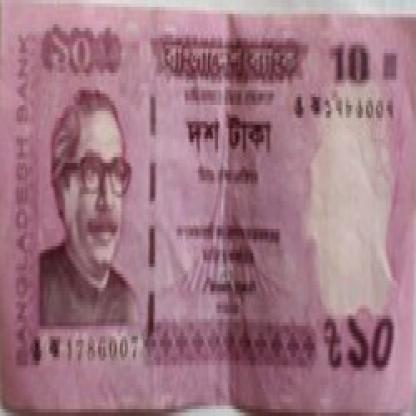Ten Taka: (343, 305, 399, 378), (43, 21, 103, 76), (330, 31, 374, 90)
